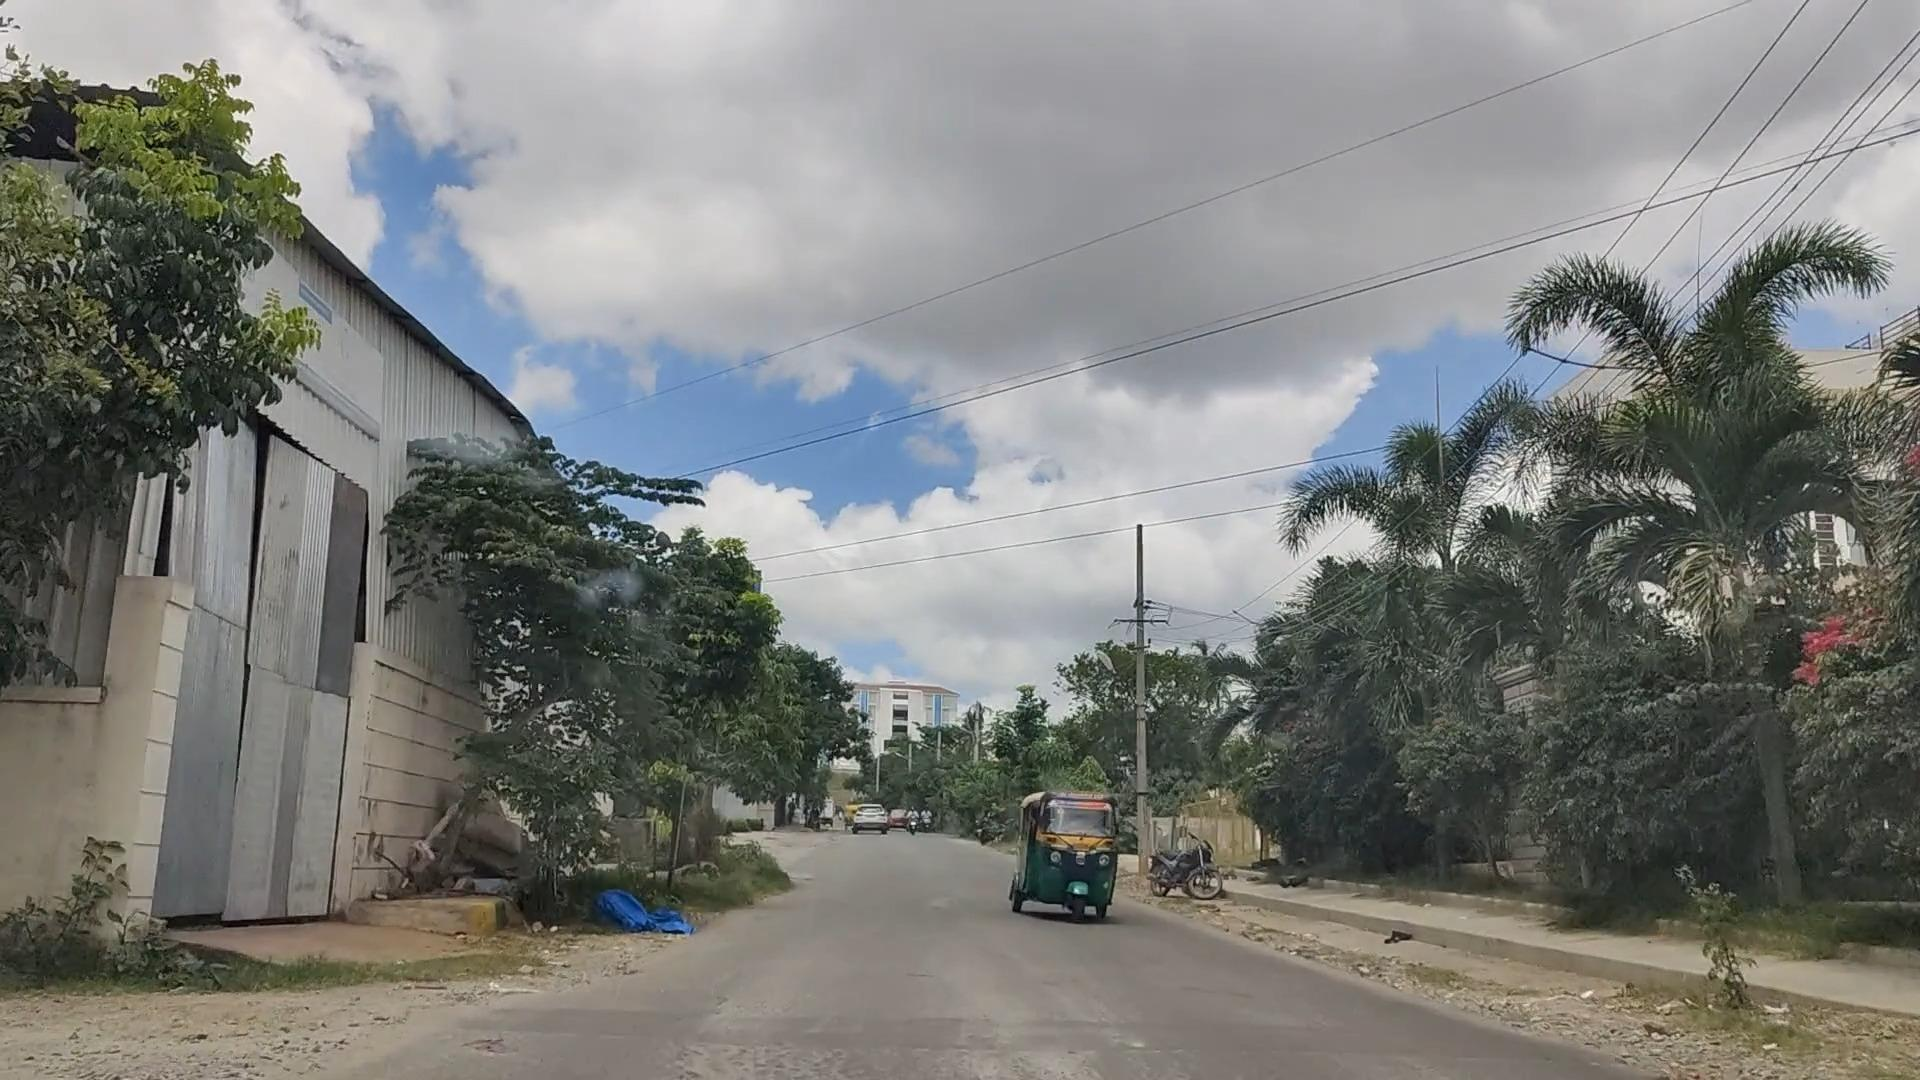RoadDamages: (208, 975, 582, 1080)
